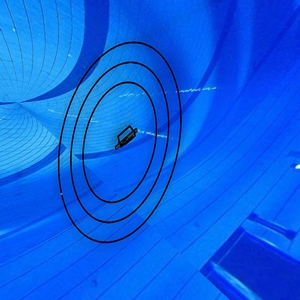circle: (54, 38, 185, 250)
submarine: (114, 122, 143, 156)
